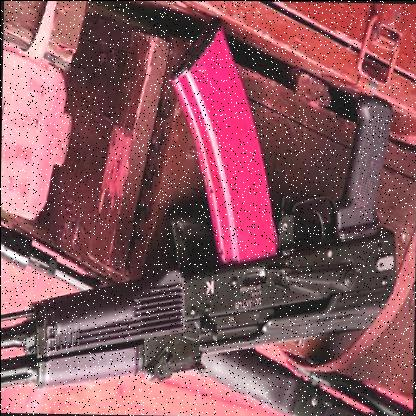rifle: (0, 74, 404, 402)
